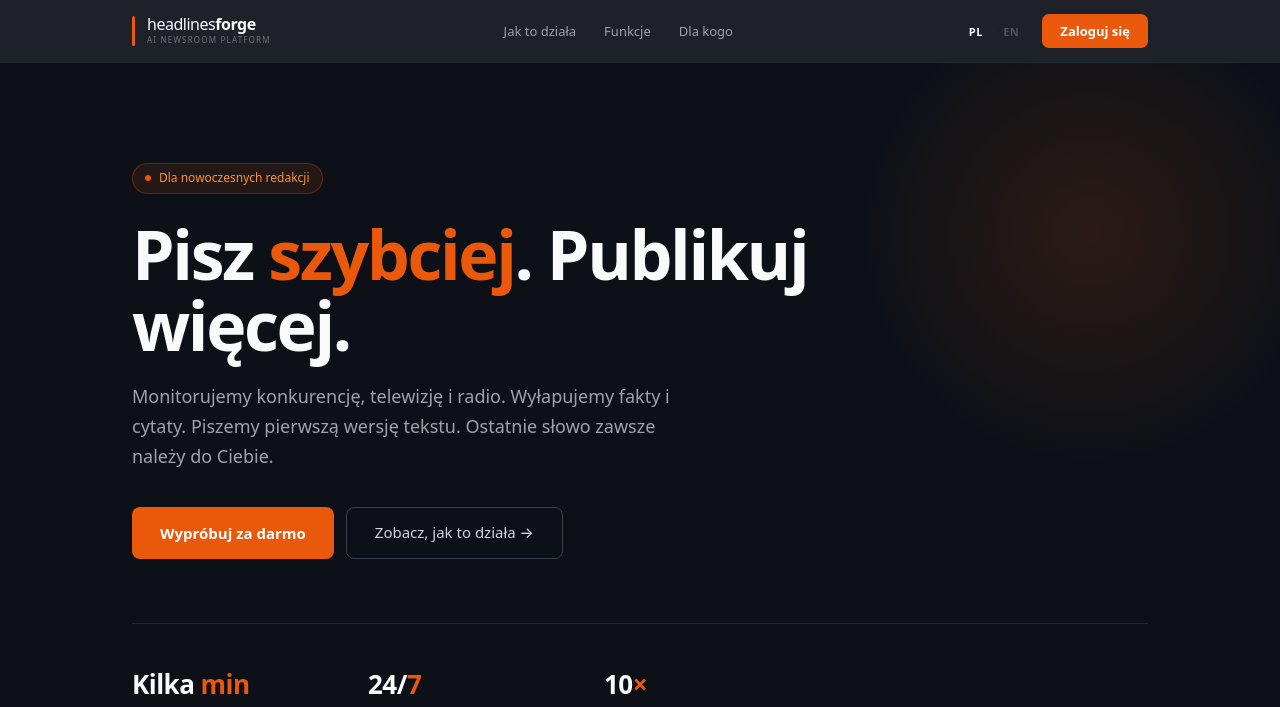
Test: LandingPage › toggles language from PL to EN via lang toggle
Check: the text "your whole newsroom in one place" is not shown
What coordinates should you click on to do the following:
click the button "EN"
I would click on:
 (1011, 31)
Its box is [1000, 22, 1022, 40].
(page scrolled)
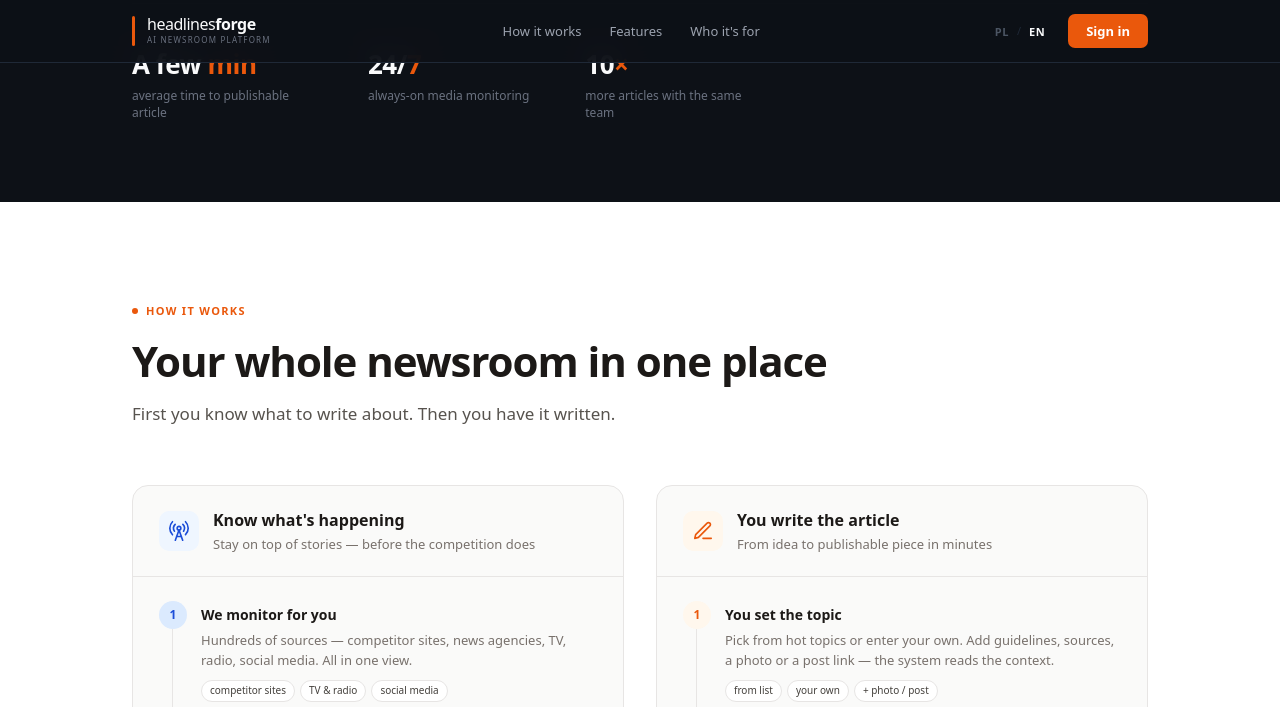
Check: the heading "Your whole newsroom in one place" is shown, box [132, 332, 827, 389]
